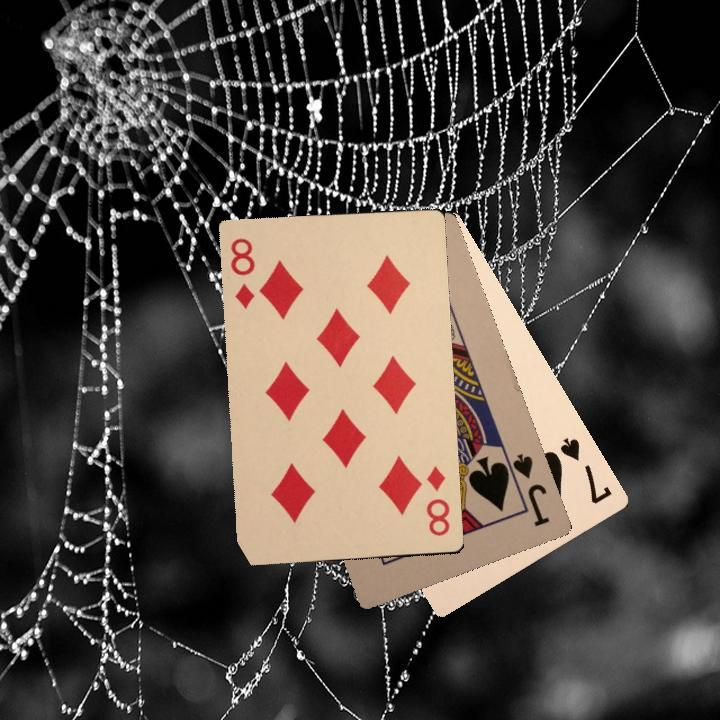7s: (555, 434, 615, 507)
8d: (227, 234, 258, 311), (422, 461, 452, 538)
Js: (502, 451, 552, 529)
